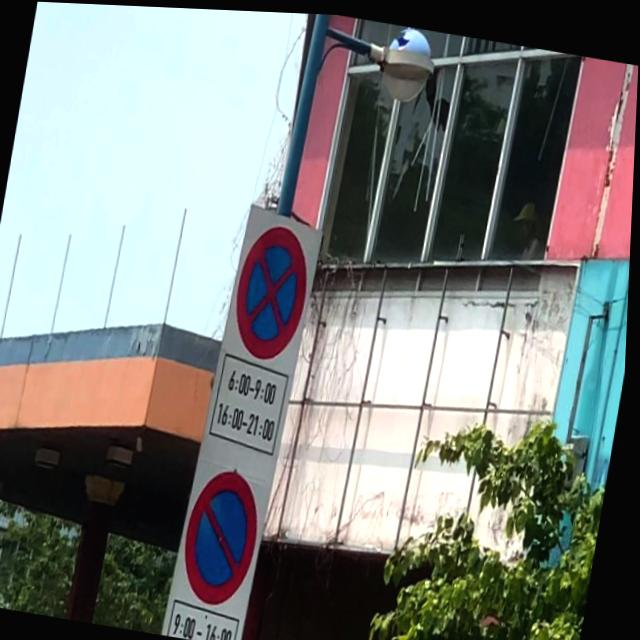Cam do xe: (180, 463, 271, 608)
Cam dung xe va do xe: (229, 217, 319, 363)
